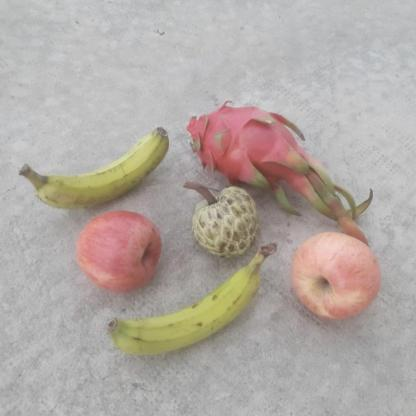annona: (188, 182, 259, 259)
apple: (288, 228, 387, 324), (73, 210, 164, 296)
banana: (107, 243, 278, 358), (20, 125, 169, 216)
pitaya: (171, 99, 309, 191)
